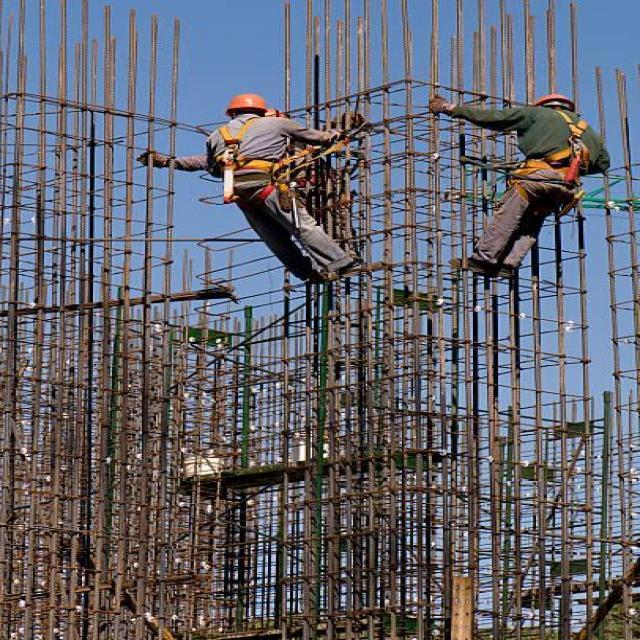belt: (510, 110, 597, 210), (212, 116, 288, 211)
